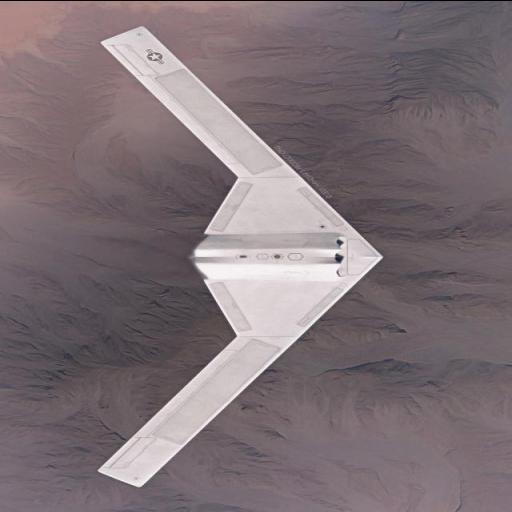uav: (86, 20, 392, 490)
